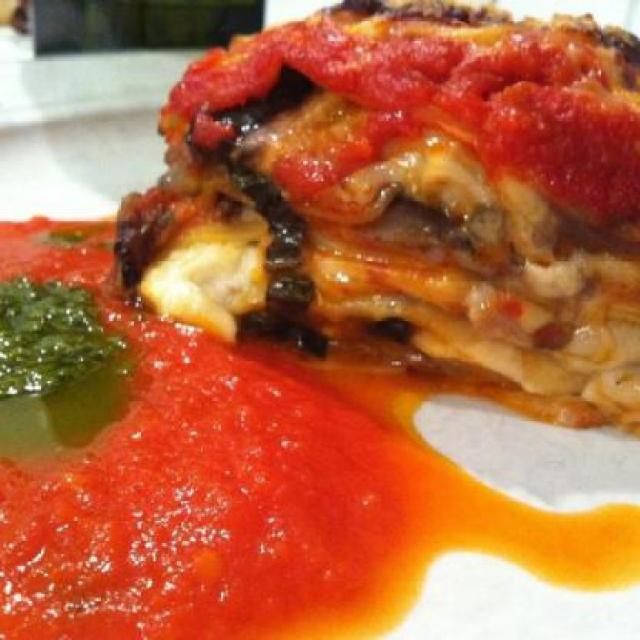Lasagna: (122, 20, 640, 388)
